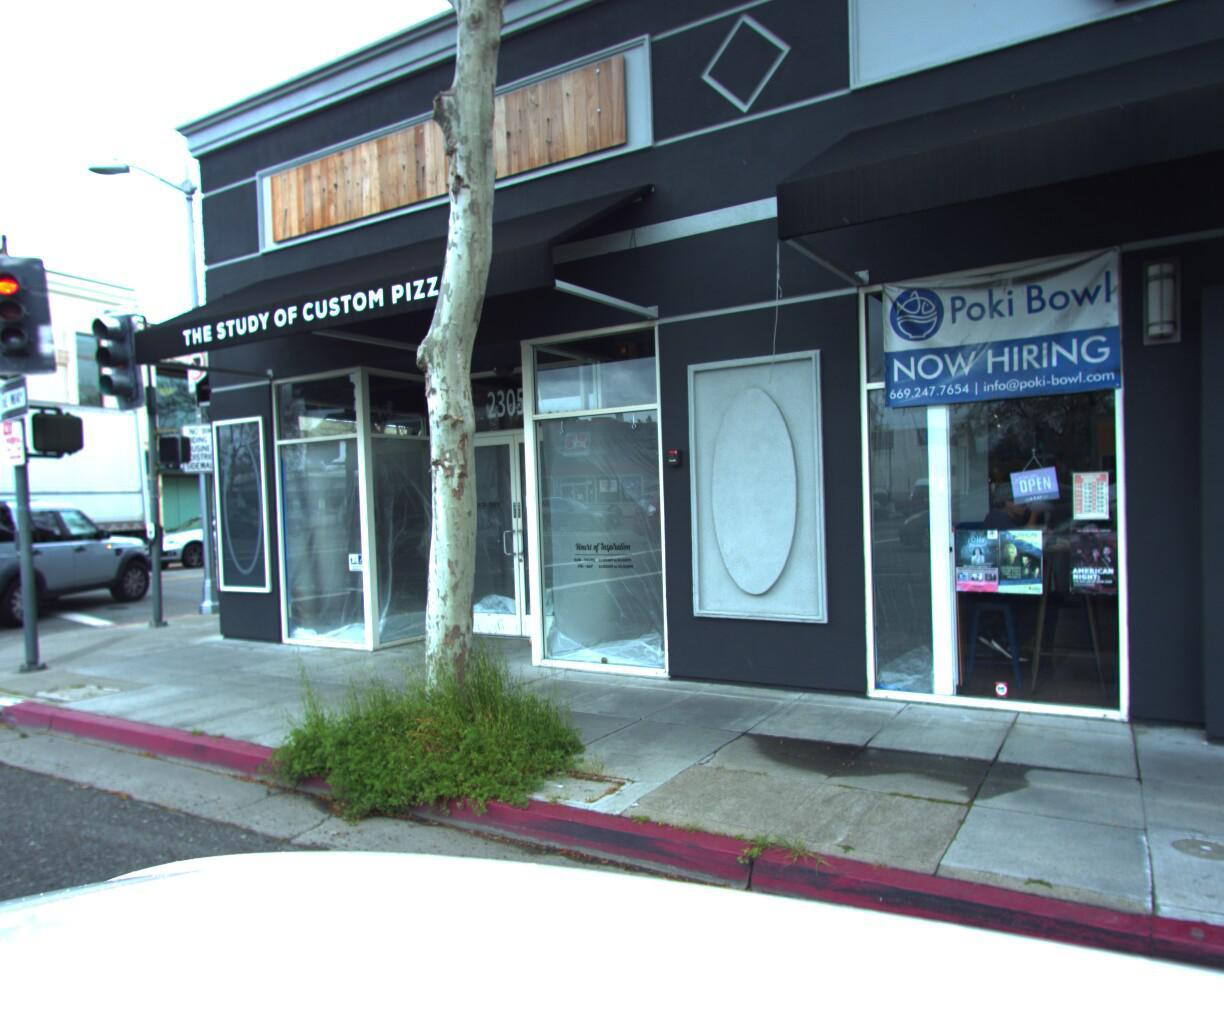car: (0, 485, 161, 634), (121, 515, 294, 580)
truck: (0, 302, 174, 686)
